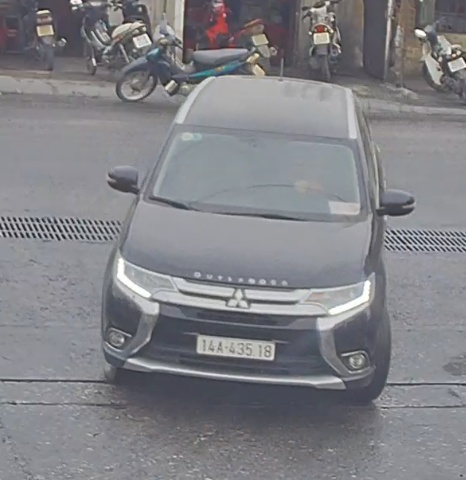vehicle plate: (195, 328, 277, 362)
